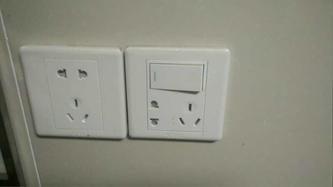switch: (148, 61, 207, 94)
